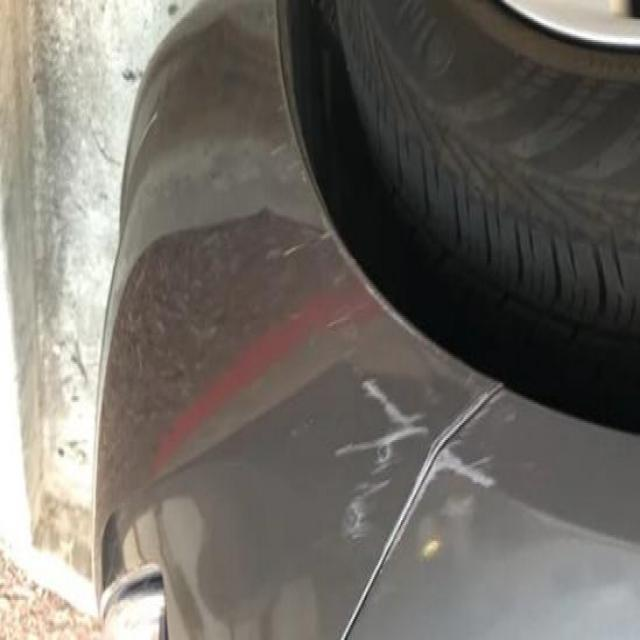scratch: (336, 372, 509, 556)
